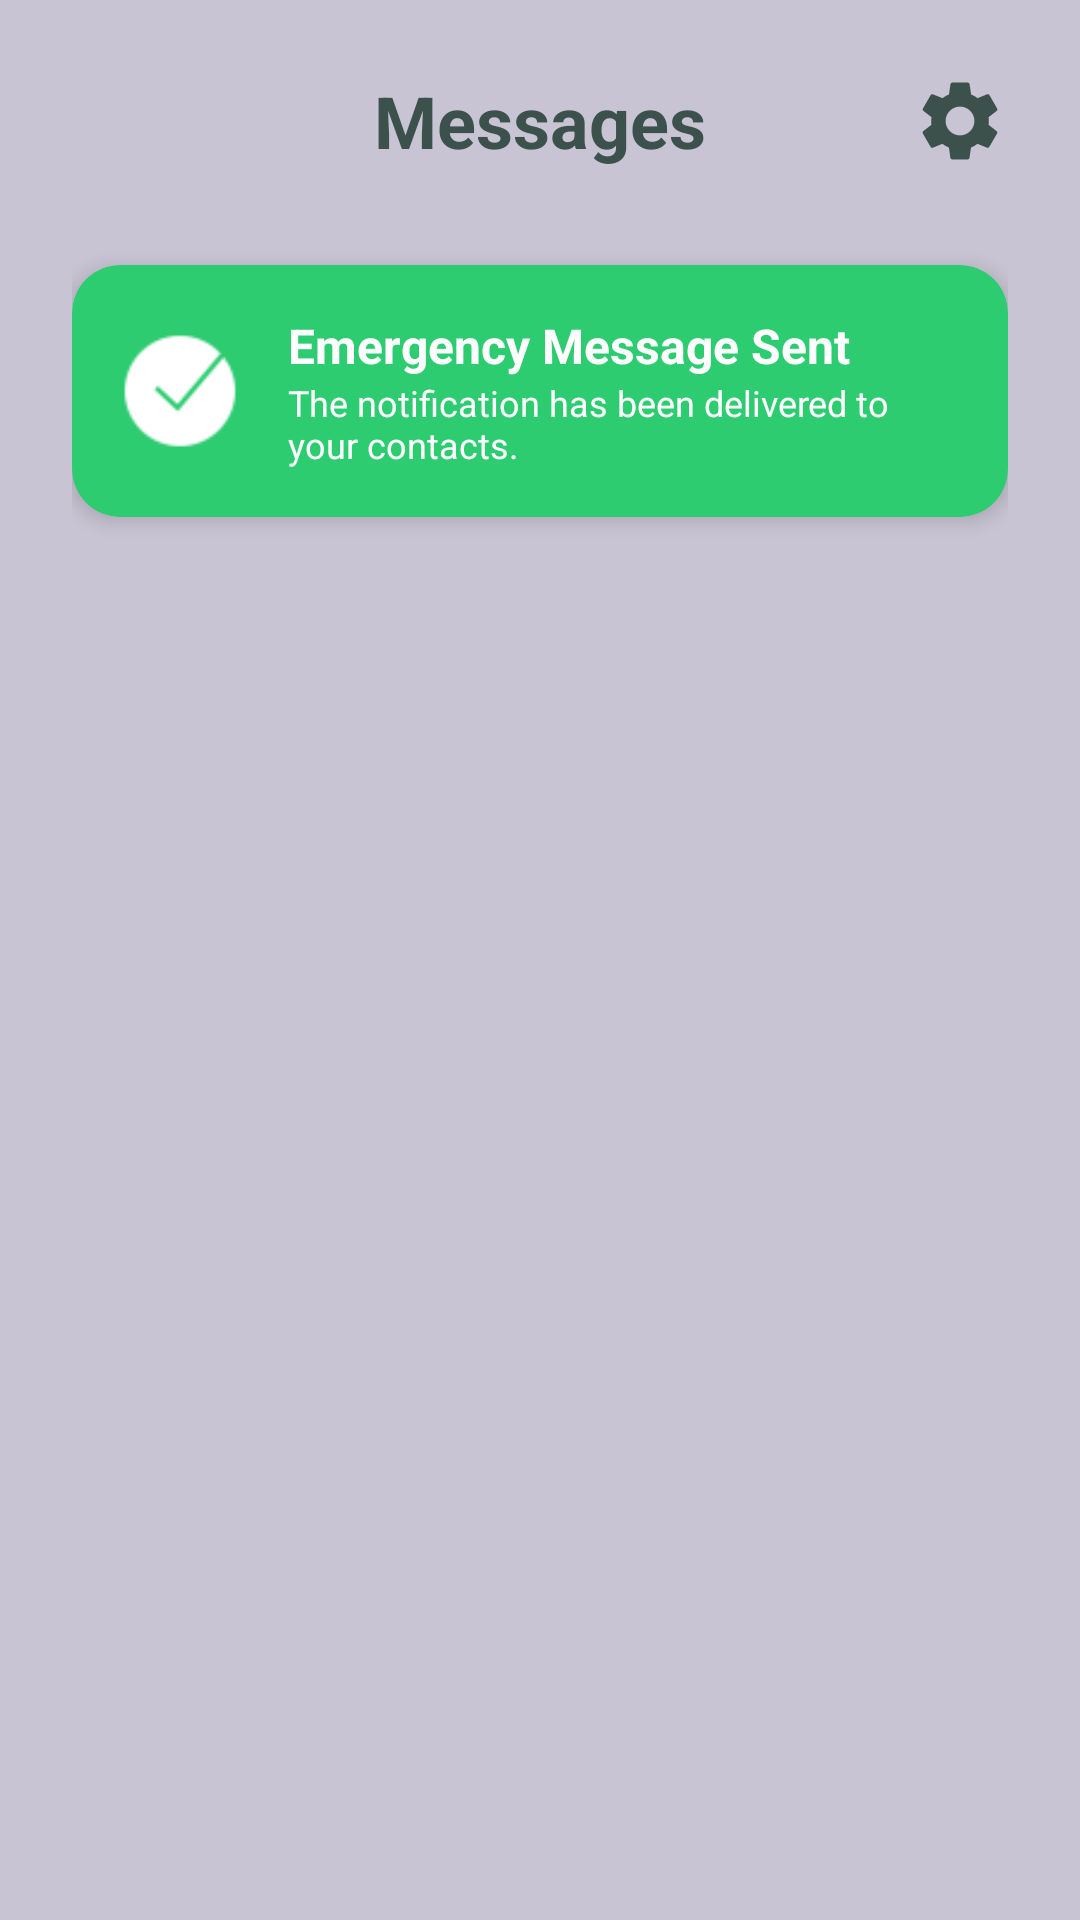

Icon bounding boxes for this 1080px×1920px phone screenshot, format [x1, y1, x2, y2]:
settings: [922, 82, 998, 160]
status check: [124, 335, 236, 447]
